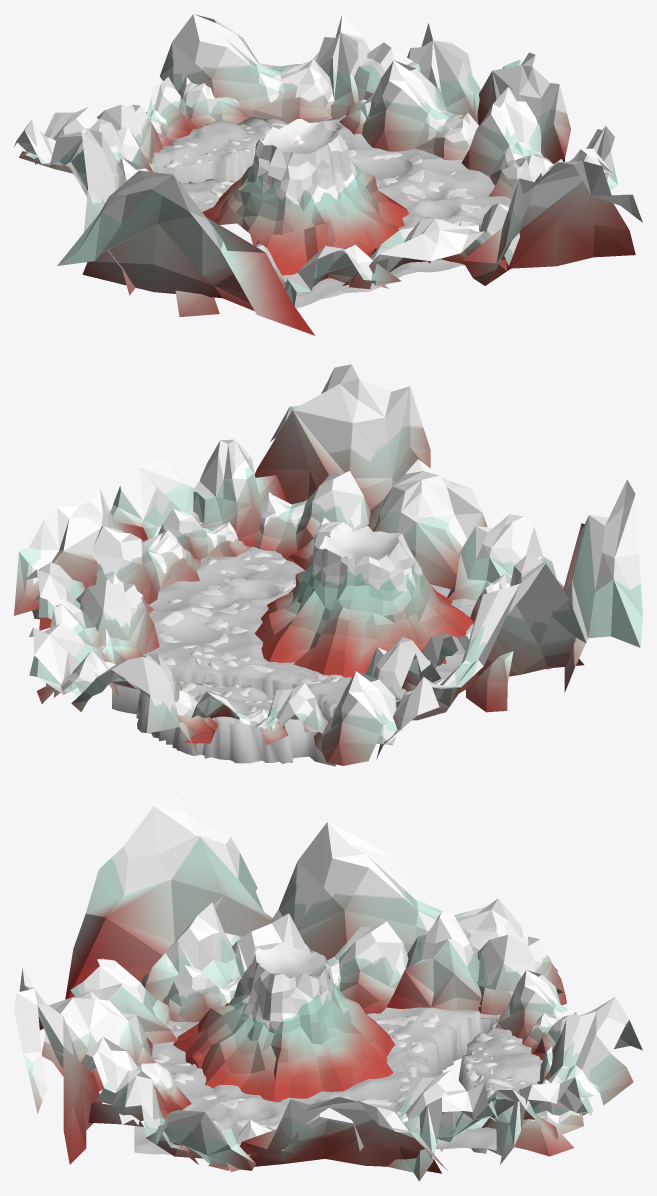
The model's file is world2.fbx.
The picture shows the model from 3 angles, top to bottom: view 1: azimuth 30°, elevation 25°; view 2: azimuth 150°, elevation 25°; view 3: azimuth 270°, elevation 25°; orthographic projection.
Visible parts, largest first — view 1: san021, outer, san009, map, san022, san018, san2, san020, san017, san4, san011, san1 (+9 smaller); view 2: map, outer, san022, san020, san009, san021, san4, san1, san017, san019, san023, san2 (+11 smaller); view 3: outer, san021, map, san020, san009, san017, san1, san2, san022, san008, san006, san007 (+10 smaller).
Boxes of the visible parts, x1,y1,x2,y2 form: san021: (57, 170, 315, 335); outer: (202, 119, 408, 278); san009: (159, 14, 553, 199); map: (149, 115, 511, 308); san022: (463, 161, 642, 285); san018: (362, 60, 478, 160); san2: (313, 14, 480, 124); san020: (14, 119, 135, 295); san017: (477, 52, 570, 164); san4: (342, 218, 506, 289); san011: (284, 244, 401, 305); san1: (21, 104, 162, 164); map: (112, 546, 476, 766); outer: (255, 525, 474, 677); san022: (255, 364, 430, 510); san020: (376, 563, 585, 758); san009: (36, 526, 200, 753); san021: (563, 479, 642, 692); san4: (363, 459, 487, 589); san1: (255, 671, 403, 765); san017: (14, 488, 147, 630); san019: (193, 439, 286, 546); san023: (253, 471, 370, 561); san2: (25, 562, 118, 697); outer: (173, 943, 395, 1101); san021: (65, 795, 272, 999); map: (134, 1007, 542, 1154); san020: (270, 822, 557, 971); san009: (208, 997, 642, 1170); san017: (240, 1097, 447, 1173); san1: (477, 934, 568, 1038); san2: (387, 1077, 592, 1181); san022: (14, 968, 101, 1164); san008: (141, 902, 313, 1001); san006: (386, 912, 481, 1010); san007: (327, 921, 577, 1060).
Size of the model in its own units: 1713 by 564 by 1723.
